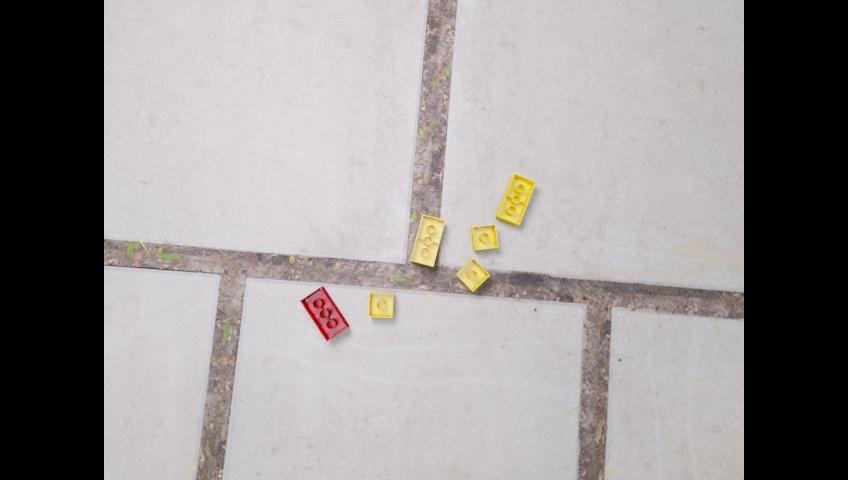2x2_yellow: (455, 259, 490, 293), (470, 225, 499, 251), (368, 292, 394, 318)
4x2_red: (300, 286, 348, 341)
4x2_yellow: (496, 174, 536, 227), (410, 214, 446, 267)
